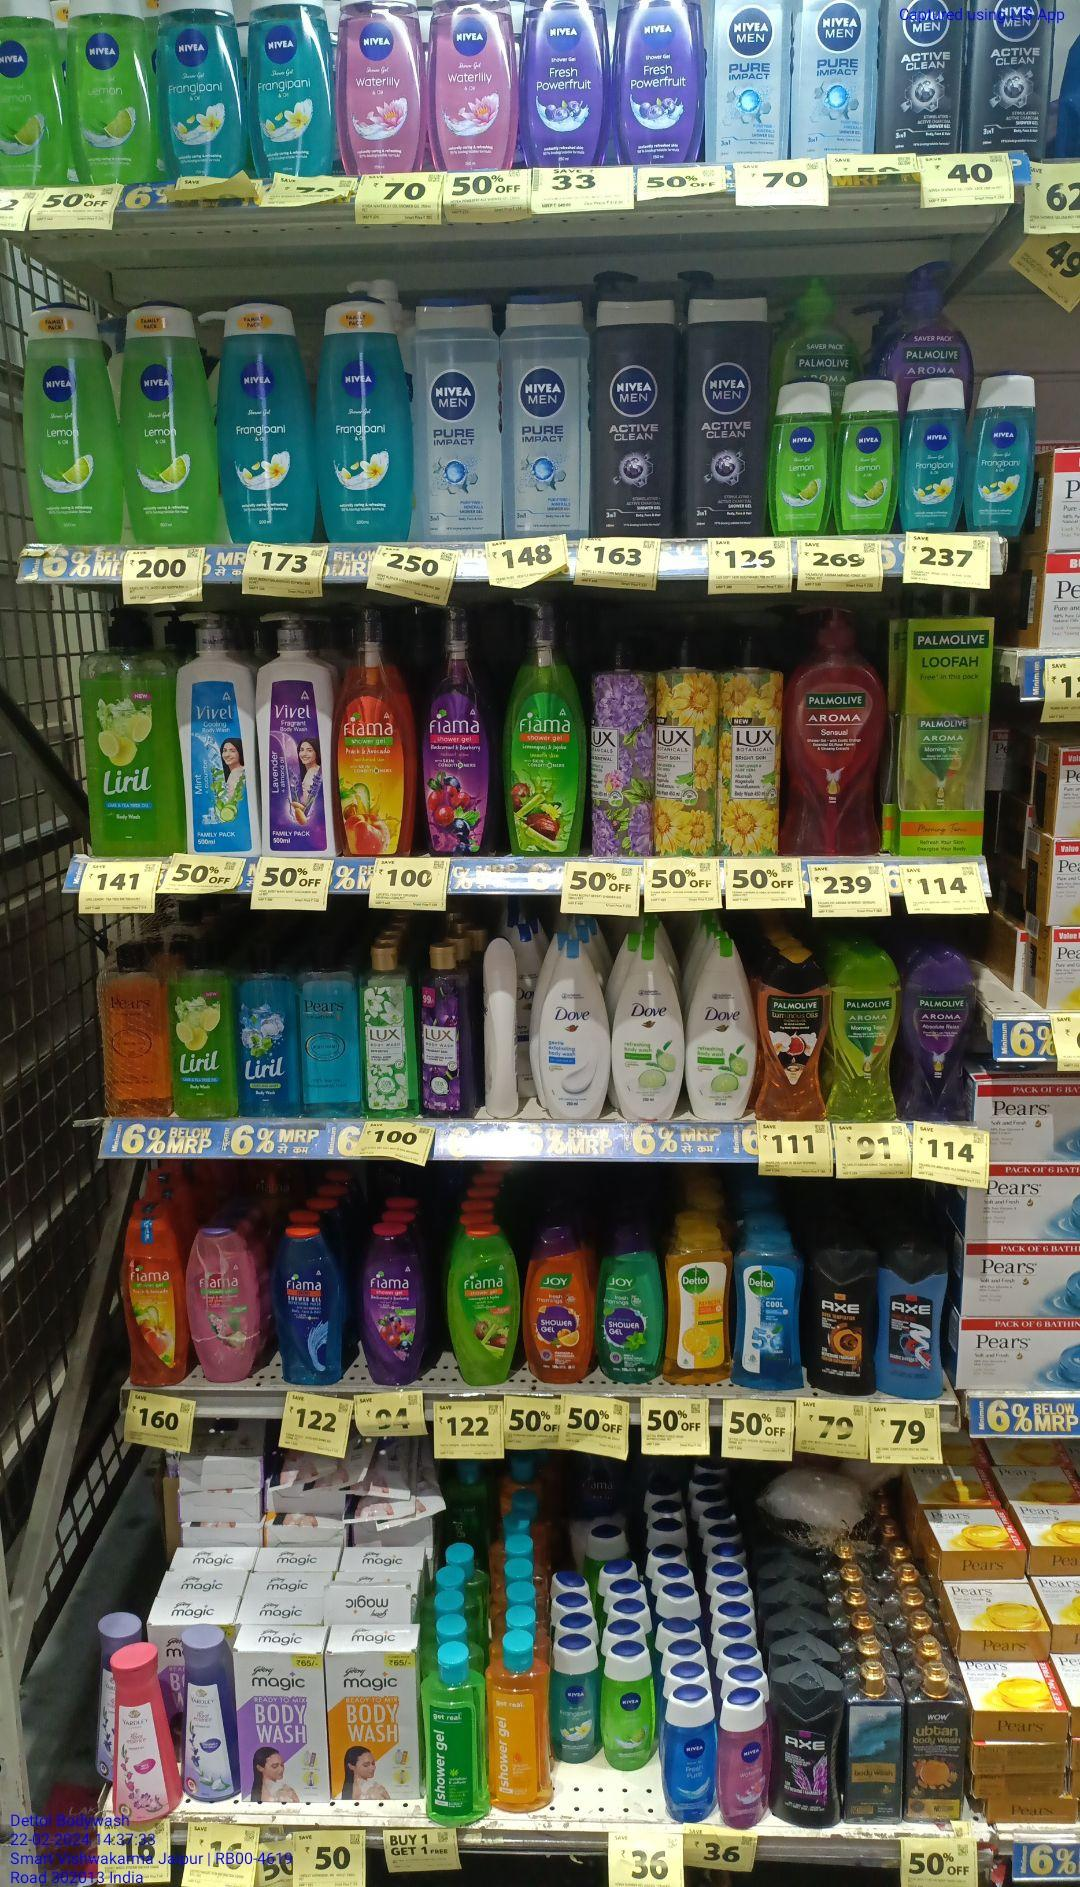Dettol_Bodywash_Cool: (738, 1229, 799, 1392)
Dettol_Bodywash_Refresh: (665, 1214, 729, 1382)
Dove_Gentle_Exfoliating_Body_Wash_250ML: (541, 940, 611, 1118)
Dove_Refreshing_Body_Wash_250ML: (613, 937, 679, 1125), (685, 936, 753, 1116)
Fiama_Shower_Gel_Lemongrass_and_Jojoba_250ML: (447, 1225, 517, 1388)
Fiama_Shower_Gel_Patchouli_and_Macadamia_250ML: (189, 1213, 257, 1382)
Fiama_Shower_Gel_Peach_and_Avocado_250ML: (123, 1203, 185, 1380)
Joy_Shower_Gel_Mandarin_and_Lemongrass_250ML: (525, 1222, 587, 1383)
Joy_Shower_Gel_Mint_and_Eucalyptus_250ML: (598, 1218, 661, 1383)
Liril_Cooling_Mint_Body_Wash_250ML: (239, 942, 299, 1117)
Liril_Lime_and_Tea_Tree_Oil_Body_Wash_250ML: (165, 938, 239, 1125)
Lux_Black_Orchid_Scent_and_Juniper_Oil_Body_Wash_245ML: (423, 934, 477, 1116)
Lux_Body_Wash_Skin_Detox_Freesia_Scent_and_Alove_Vera_245ML: (364, 937, 420, 1115)
Nivea_Shower_Gel_Frangipani_and_Oil_250ML: (222, 302, 318, 548), (324, 294, 411, 539), (157, 0, 245, 181), (248, 0, 327, 178), (971, 373, 1033, 531), (902, 378, 959, 527)
Nivea_Shower_Gel_Fresh_Powerfruit_250ML: (611, 0, 699, 163), (522, 0, 598, 165)
Nivea_Shower_Gel_Lemon_and_Oil_250ML: (23, 301, 124, 546), (128, 292, 218, 537), (75, 0, 150, 185), (0, 0, 70, 188), (768, 381, 834, 534), (840, 377, 896, 537)
Nivea_Shower_Gel_Waterlily_and_Oil_250ML: (336, 0, 424, 174), (428, 0, 516, 168)
Palmolive_Aroma_Morning_Tonic_Shower_Gel_250ML: (834, 947, 896, 1118)
Palmolive_Aroma_Relax_250ML: (902, 943, 972, 1118)
Palmolive_Luminous_Oils_With_White_Orchid_Shower_Gel_250ML: (757, 950, 830, 1118)
Pears_Pure_Glycerin_and_Mint_Extracts_Body_Wash_250ML: (305, 938, 362, 1112)
